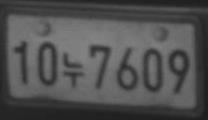0: (36, 41, 58, 86), (142, 48, 163, 93)
1: (11, 41, 32, 85)
6: (116, 47, 138, 91)
7: (89, 43, 111, 90)
9: (167, 49, 190, 94)
누: (62, 51, 85, 88)
